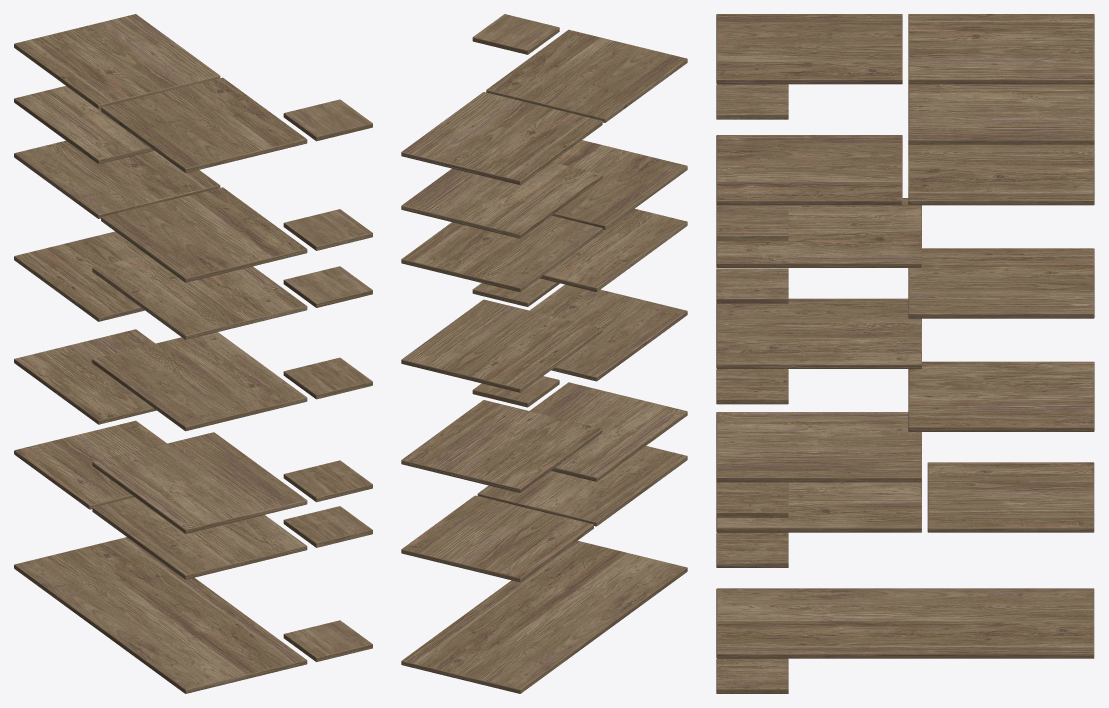
File: rackFlowersDefoult3.gltf
The picture shows the model from 3 angles, left to right: view 1: azimuth 30°, elevation 25°; view 2: azimuth 150°, elevation 25°; view 3: azimuth 270°, elevation 25°; orthographic projection. The views are drawn at different scales.
Parts seen in each view (by area): view 1: rackFlowersDefoult3; view 2: rackFlowersDefoult3; view 3: rackFlowersDefoult3.
Part boxes in pixels (x1=…): rackFlowersDefoult3: x1=14, y1=14, x2=372, y2=693; rackFlowersDefoult3: x1=401, y1=14, x2=687, y2=693; rackFlowersDefoult3: x1=716, y1=14, x2=1094, y2=693.
Size of the model in its own units: 3.44 by 9.2 by 5.44.
Materials: 1 (1 with a texture image).
